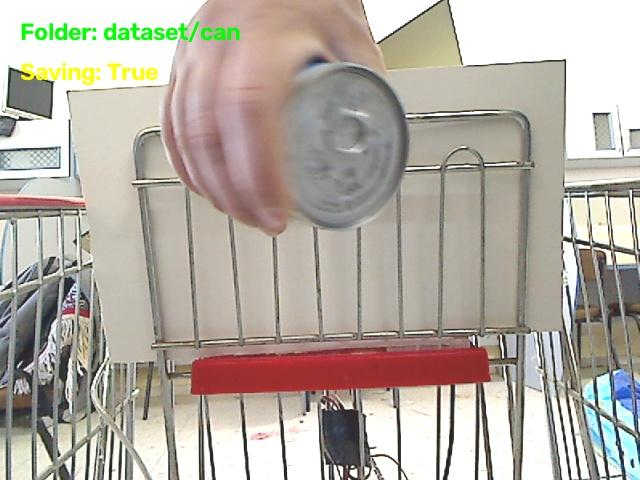can: (285, 62, 408, 228)
